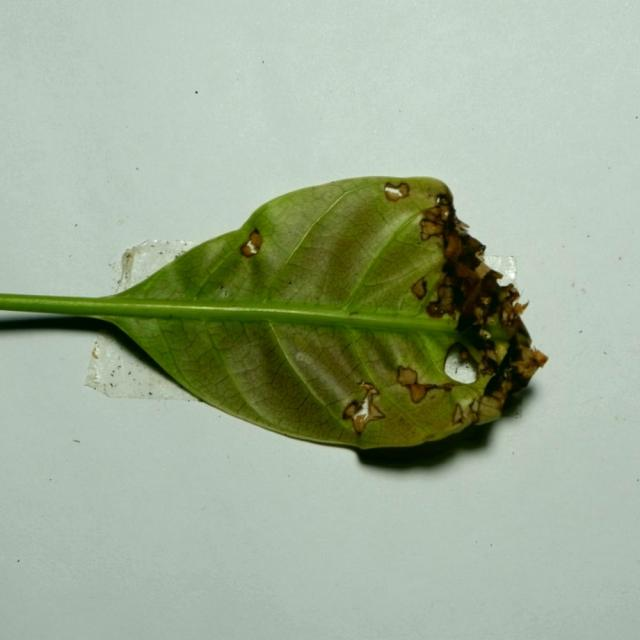Anthracnose: (339, 364, 396, 424), (396, 363, 458, 404), (417, 197, 465, 247), (506, 342, 546, 388), (425, 274, 461, 319), (498, 292, 527, 329), (473, 394, 504, 422), (239, 230, 263, 258), (383, 181, 410, 202), (472, 260, 496, 283), (396, 365, 419, 386), (481, 343, 499, 367), (421, 204, 446, 219), (411, 277, 427, 300), (342, 401, 359, 419), (459, 348, 470, 360)
Mango: (0, 177, 546, 460)
